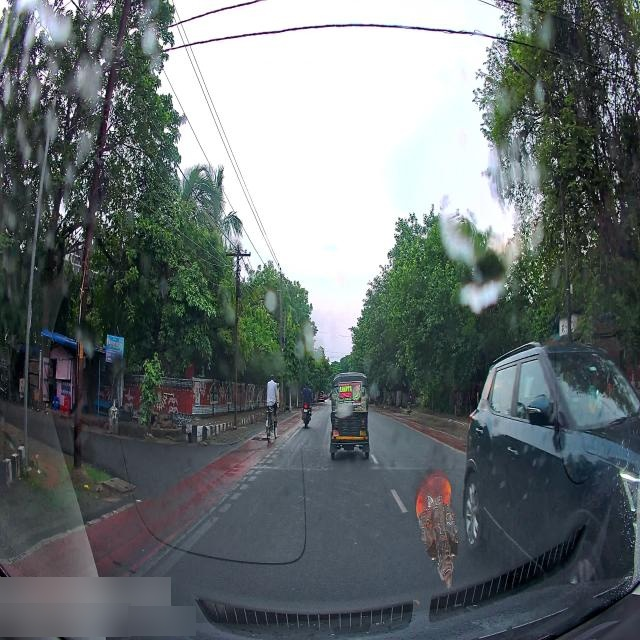pothole: (253, 431, 268, 443)
